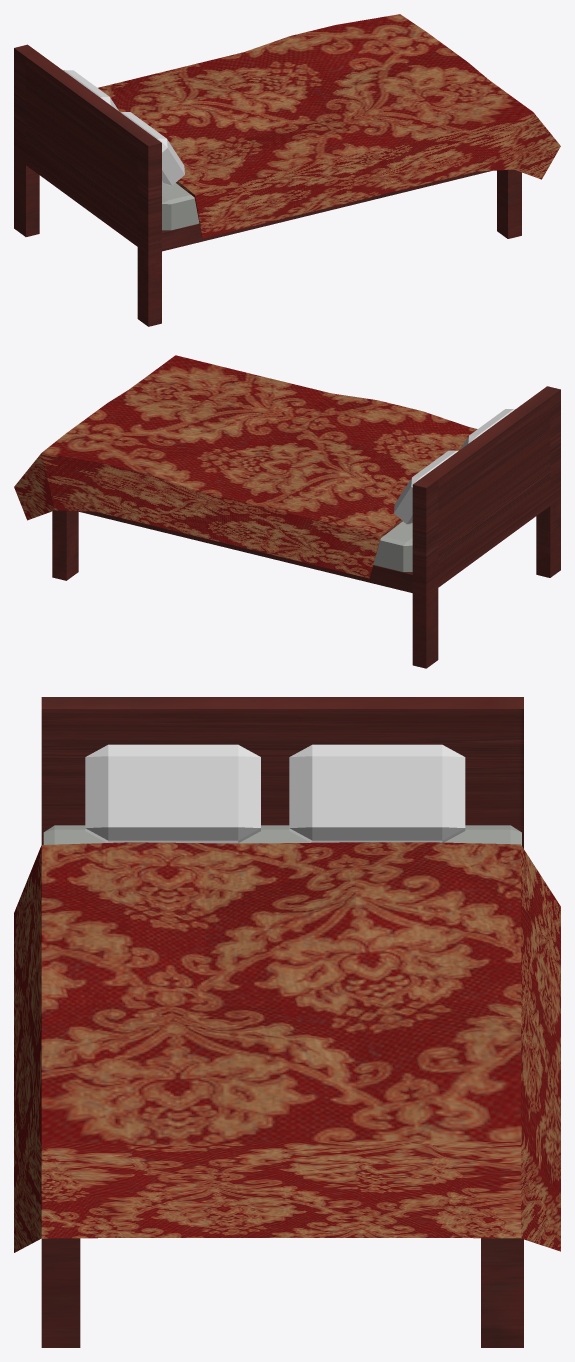
The model's file is Bed.fbx.
3 renders of one model, top to bottom at view 1: azimuth 30°, elevation 25°; view 2: azimuth 150°, elevation 25°; view 3: azimuth 270°, elevation 25°, orthographic. The views are drawn at different scales.
Visible parts, largest first — view 1: Plane, Cube, Cube.003, Cube.001; view 2: Plane, Cube, Cube.001, Cube.003; view 3: Plane, Cube, Cube.003, Cube.001.
Boxes of the visible parts, x1,y1,x2,y2 form: Plane: (98, 14, 560, 238); Cube: (14, 44, 521, 326); Cube.003: (63, 70, 184, 185); Cube.001: (162, 182, 199, 230); Plane: (14, 355, 477, 578); Cube: (52, 386, 560, 668); Cube.001: (373, 521, 412, 571); Cube.003: (394, 409, 515, 524); Plane: (14, 842, 560, 1252); Cube: (41, 697, 523, 1347); Cube.003: (85, 744, 465, 843); Cube.001: (43, 825, 521, 845).
Bounding box in the file's own units: 1281 × 534 × 818.
4 materials, 2 textured.
